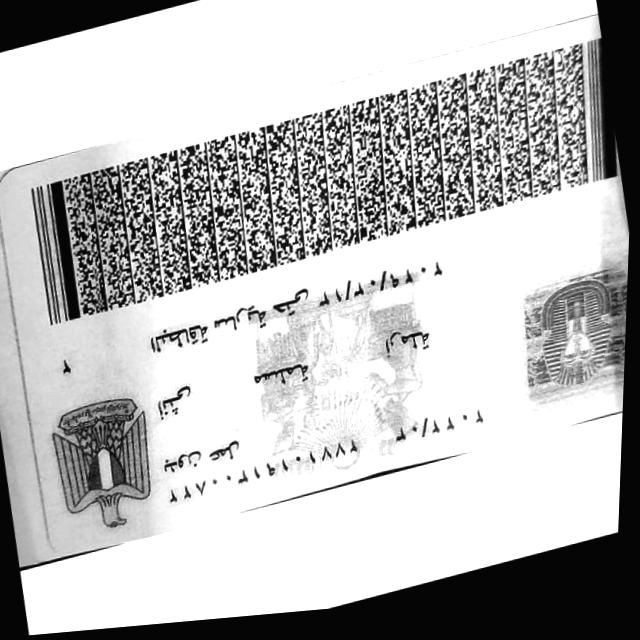back: (0, 17, 629, 551)
